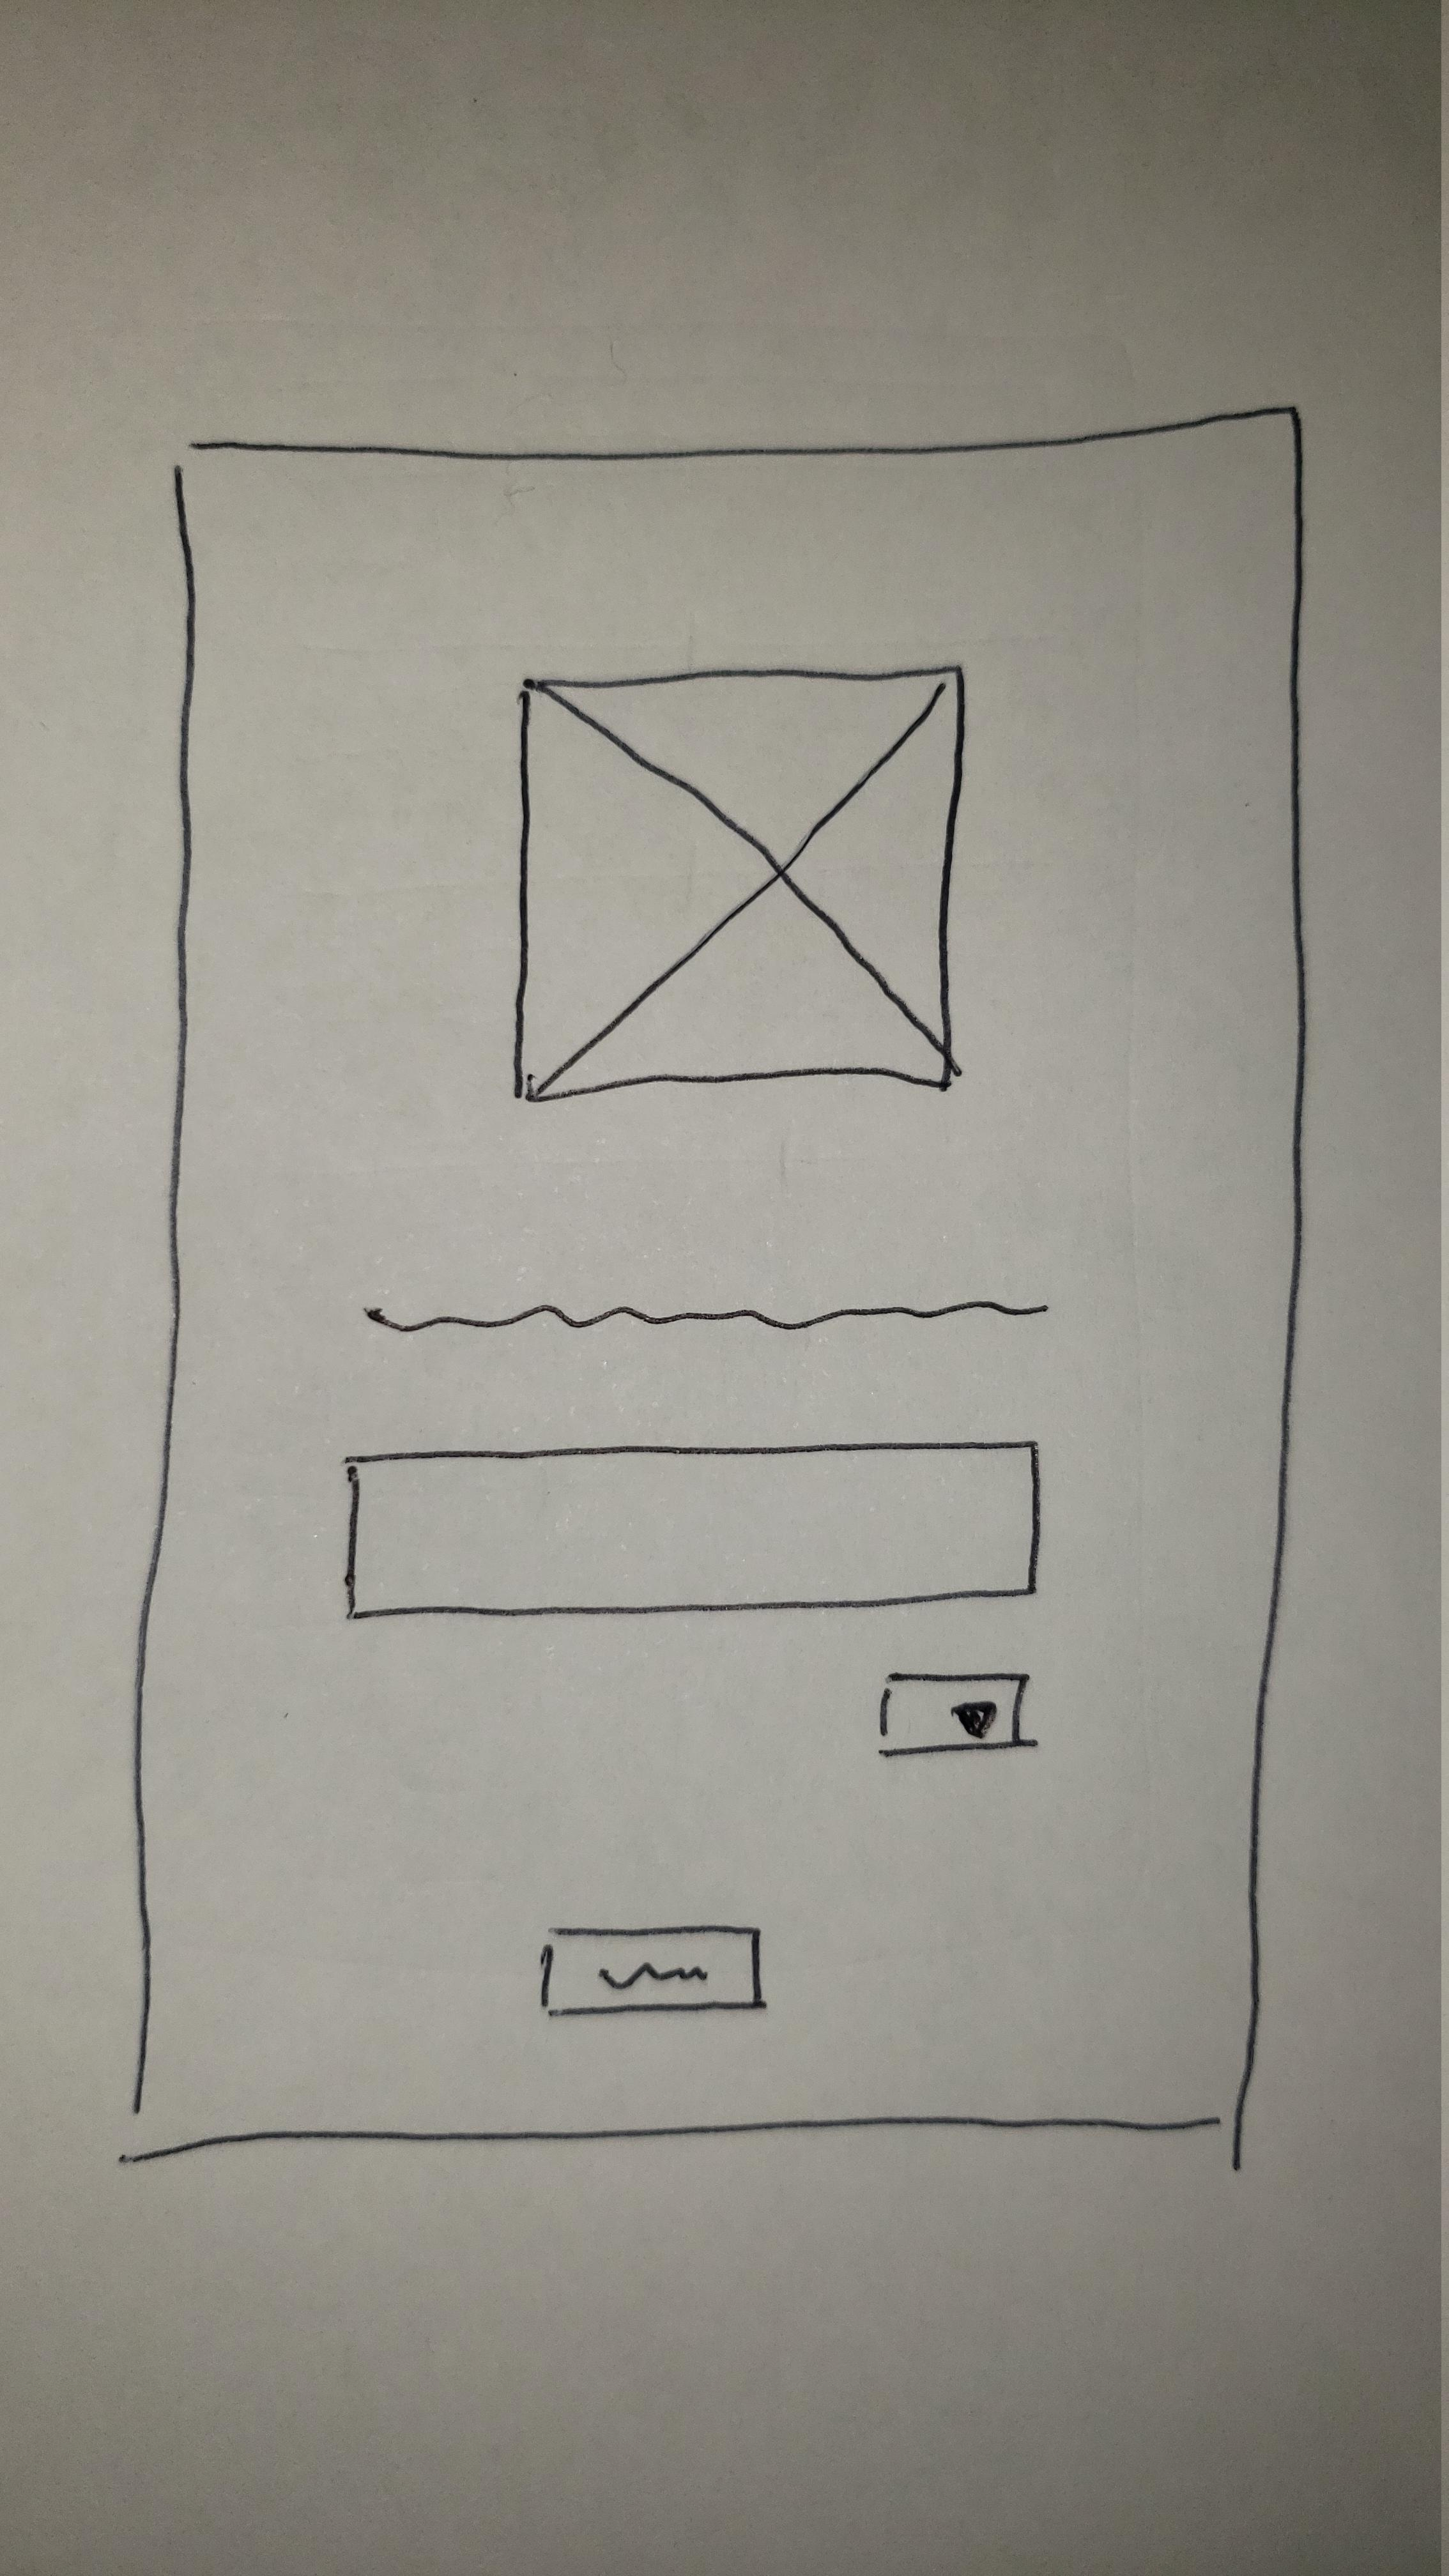Button: (538, 1923, 764, 2015)
Image: (508, 665, 968, 1102)
Label: (364, 1295, 1053, 1332)
ListPicker: (878, 1672, 1035, 1759)
Screen: (115, 403, 1307, 2167)
TextBox: (338, 1442, 1040, 1621)
